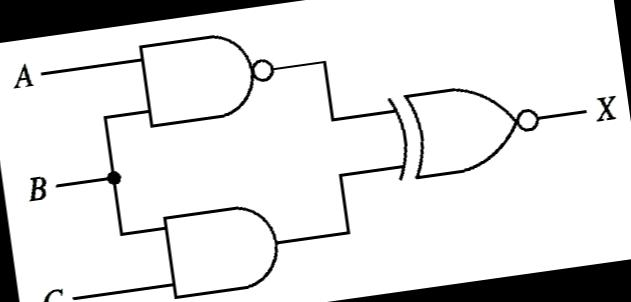and: (155, 193, 287, 302)
nand: (130, 21, 286, 133)
xnor: (377, 68, 550, 193)
